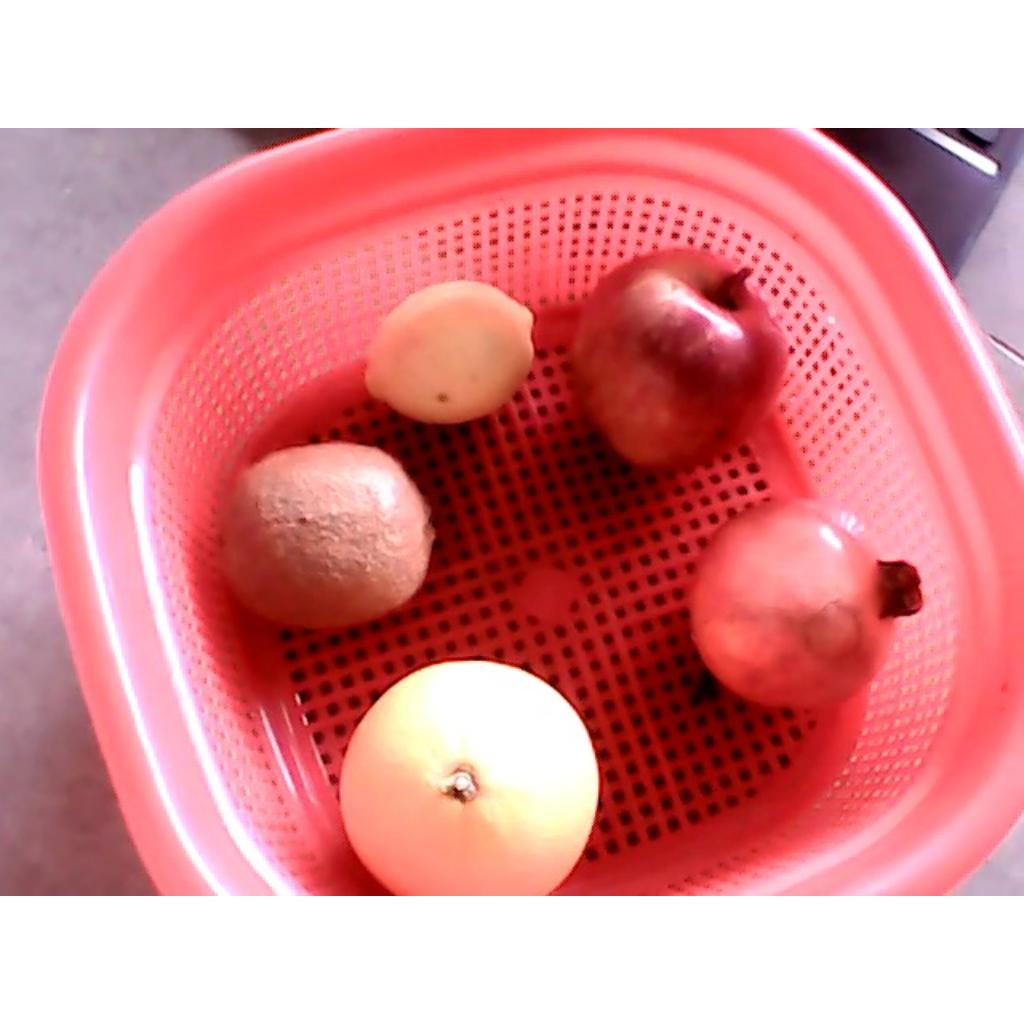apple: (571, 247, 789, 474)
kiwi: (216, 441, 437, 630)
lemon: (366, 278, 535, 423)
orange: (340, 660, 599, 894)
pomegranate: (687, 498, 924, 711)
